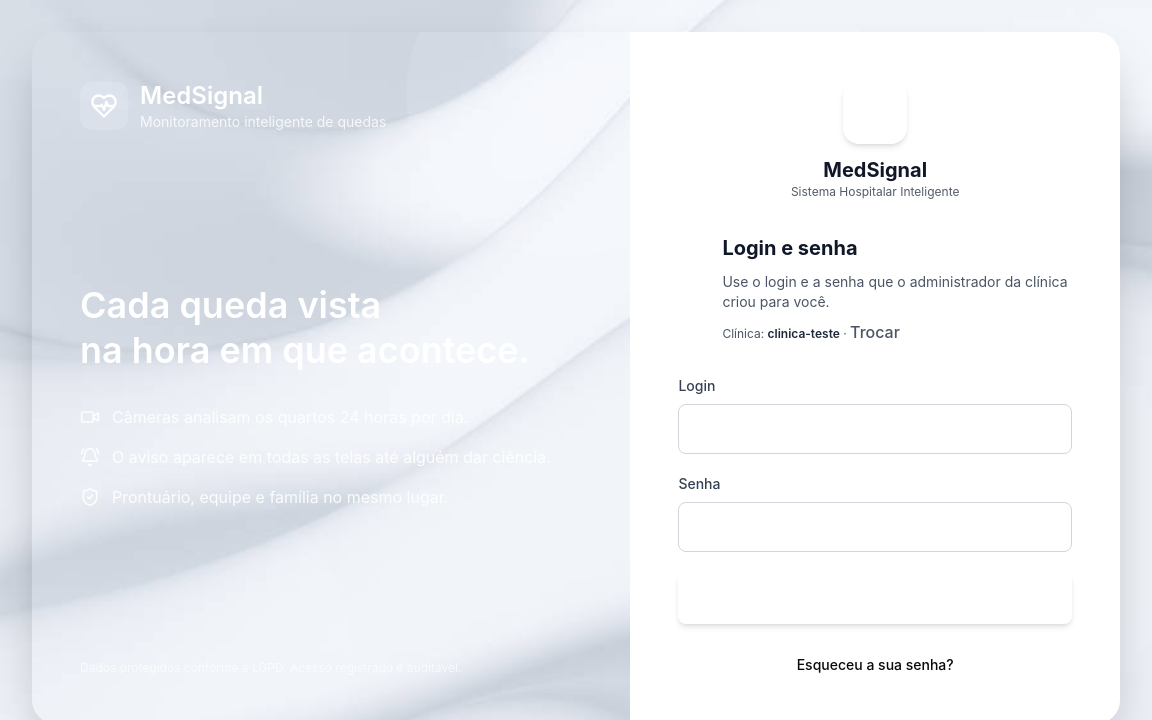
Login: esqueci a senha › e-mail válido: manda o pedido, avisa e volta para o login
This screenshot has width=1152, height=720.
Click the button "Esqueceu a sua senha?" at (875, 665), box [797,655,954,675]
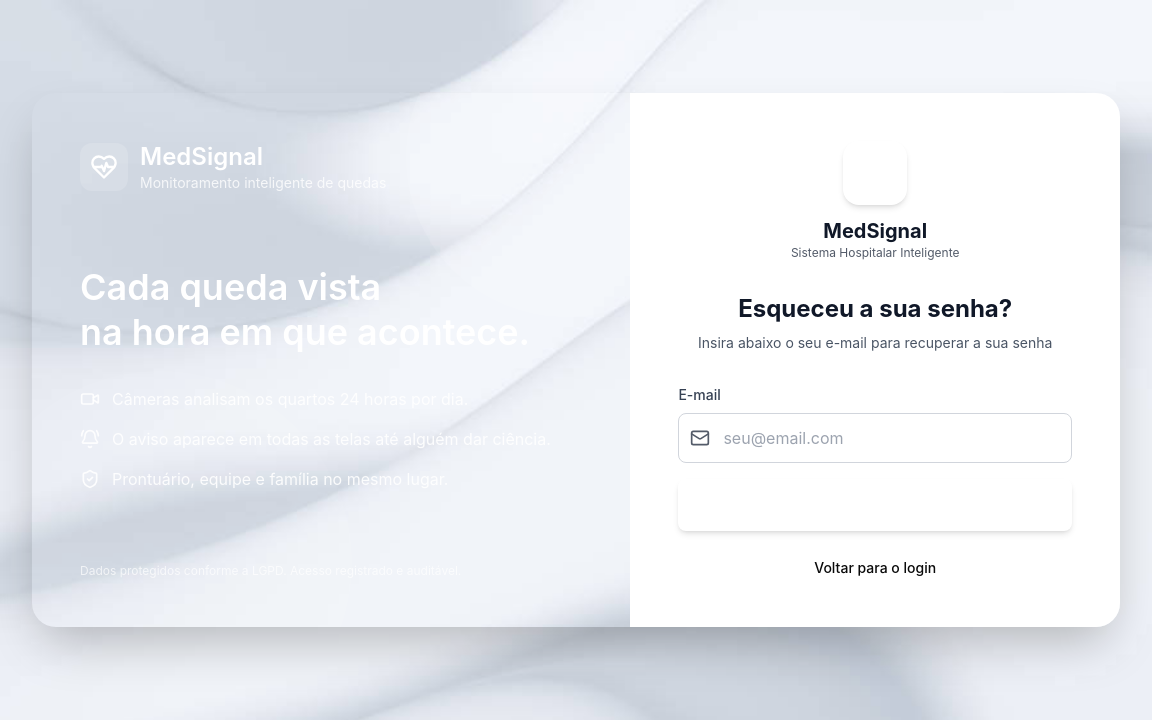
Type "  Ana.Souza@Clinica.com.br " into the field labelled "E-mail" at (875, 438), box [678,413,1072,463]
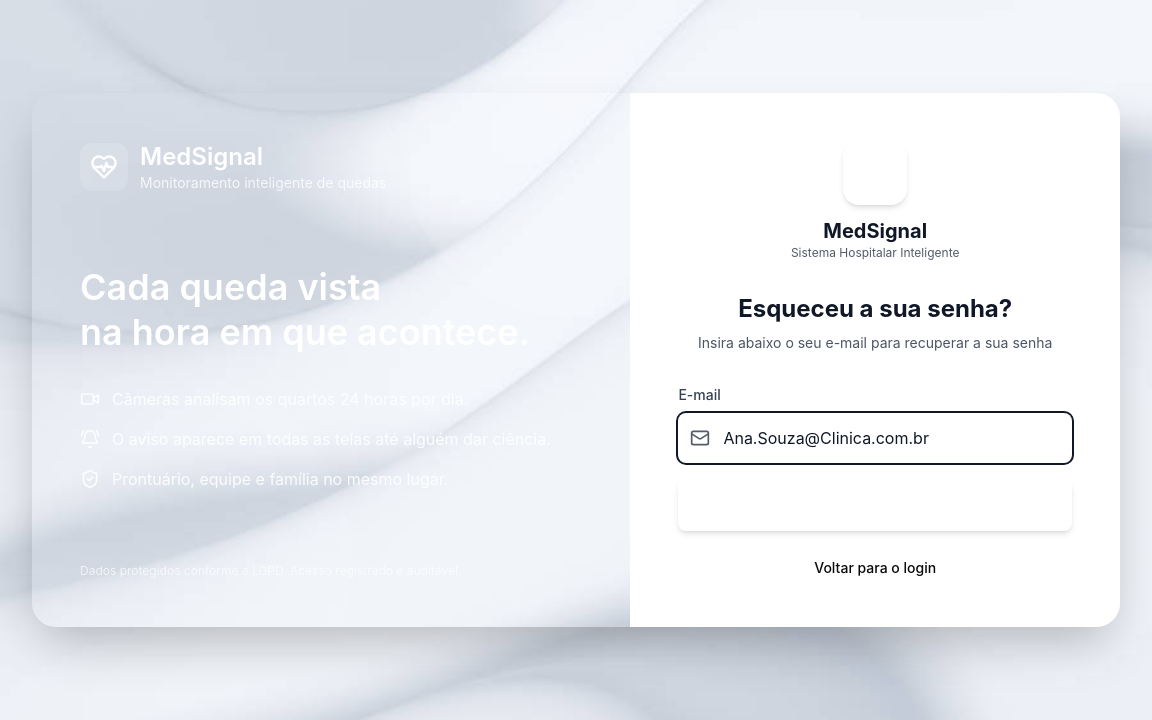
Click the button "Enviar" at (875, 505), box [678,479,1072,531]
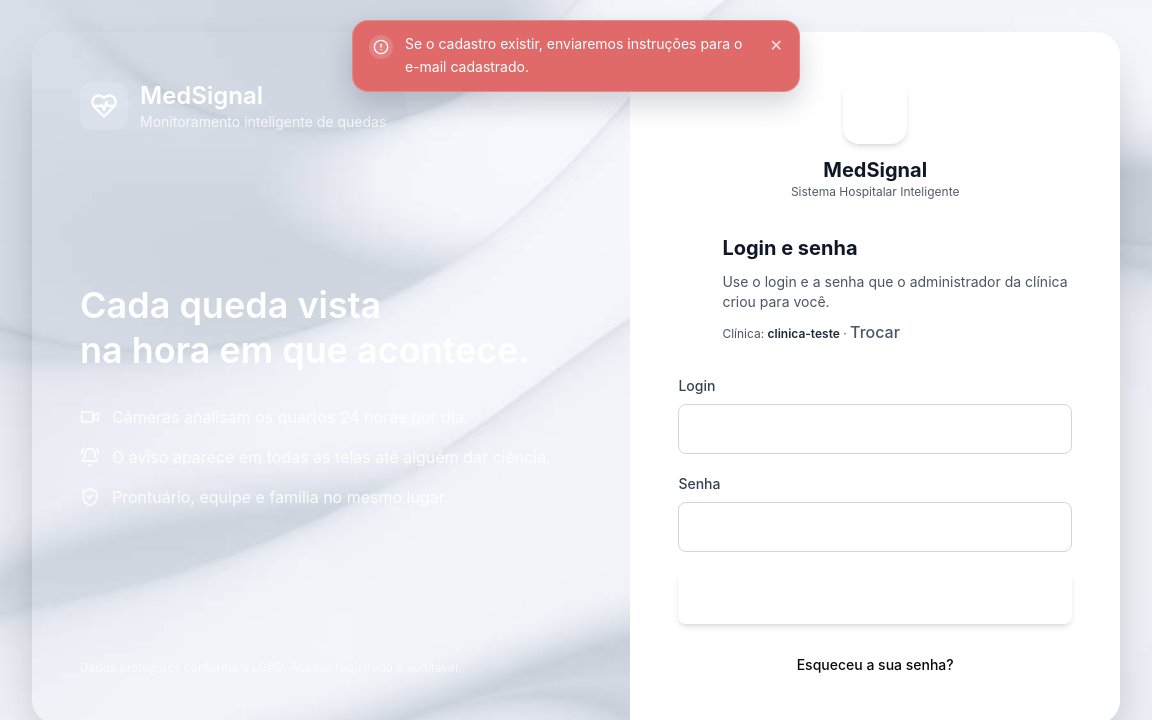
Now the text "Se o cadastro existir, enviaremos instruções para o e-mail cadastrado." is shown, box [405,33,758,78]
Now the heading "Login e senha" is shown, box [722,234,858,262]
